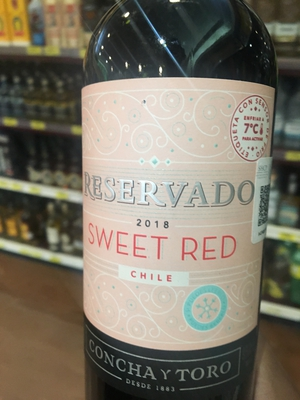reservado sweet red: (78, 13, 271, 400)
